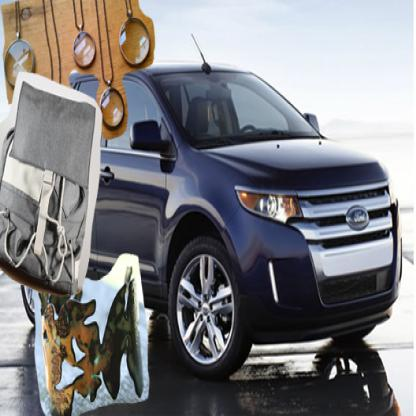Vehicle: (11, 62, 404, 381)
